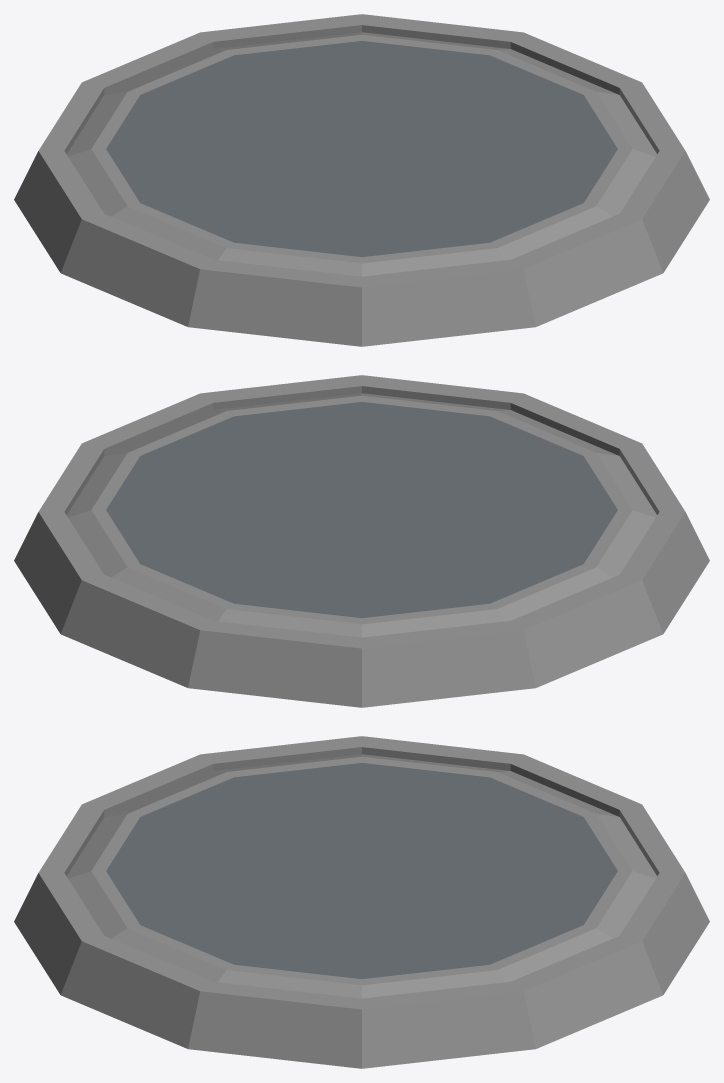
The model's file is Luke_01.fbx.
3 views of the same model, one above another, from view 1: azimuth 30°, elevation 25°; view 2: azimuth 150°, elevation 25°; view 3: azimuth 270°, elevation 25° (orthographic).
Visible parts, largest first — view 1: Luke_01; view 2: Luke_01; view 3: Luke_01.
Boxes of the visible parts, box(x1,y1,x2,y2) form: Luke_01: box(14, 14, 709, 346); Luke_01: box(14, 375, 709, 707); Luke_01: box(14, 736, 709, 1068).
Size of the model in its own units: 82.55 by 6.64 by 82.55.
